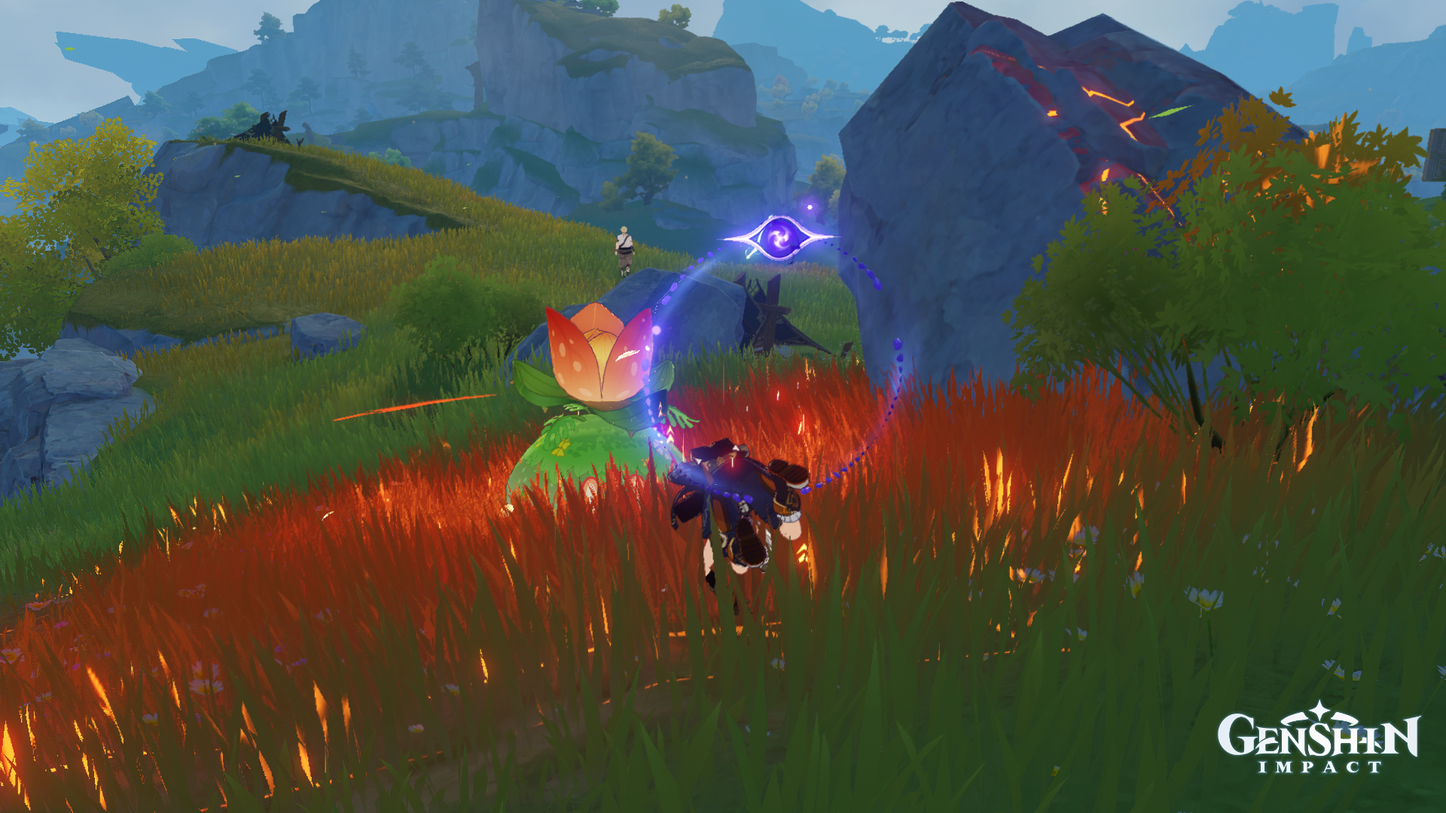Human: (499, 297, 707, 522), (613, 221, 637, 281)
Monster: (660, 432, 815, 617)
Tree: (997, 86, 1446, 472), (345, 257, 561, 400), (0, 115, 184, 277), (590, 126, 682, 221)
